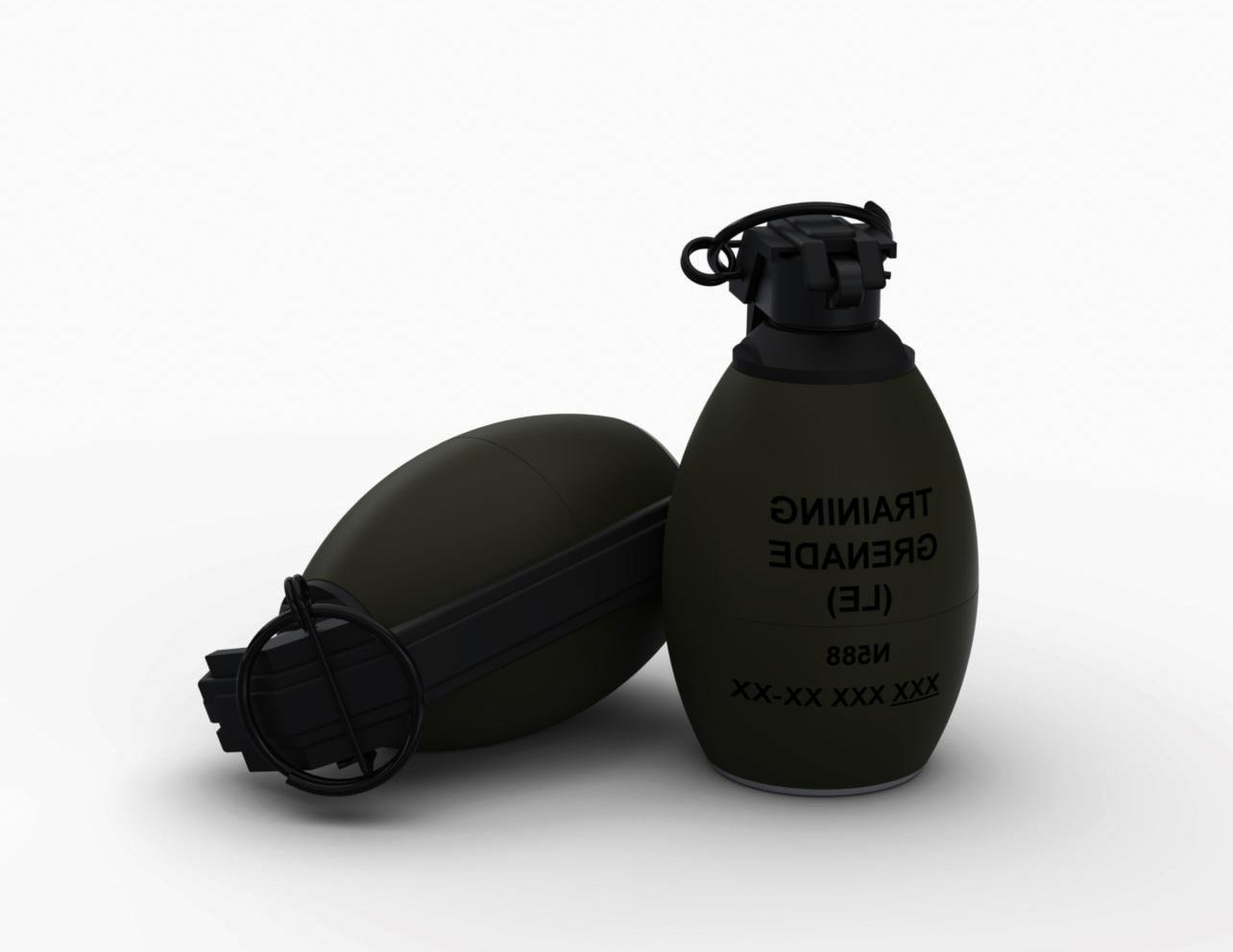Grenade: (665, 200, 980, 797), (198, 414, 676, 798)
